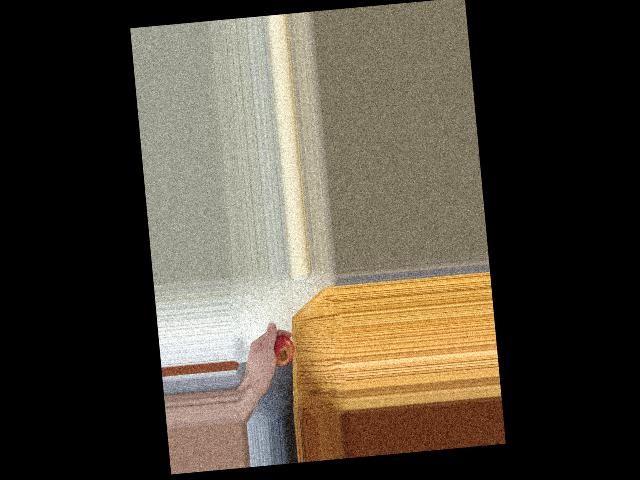apple: (264, 335, 295, 368)
